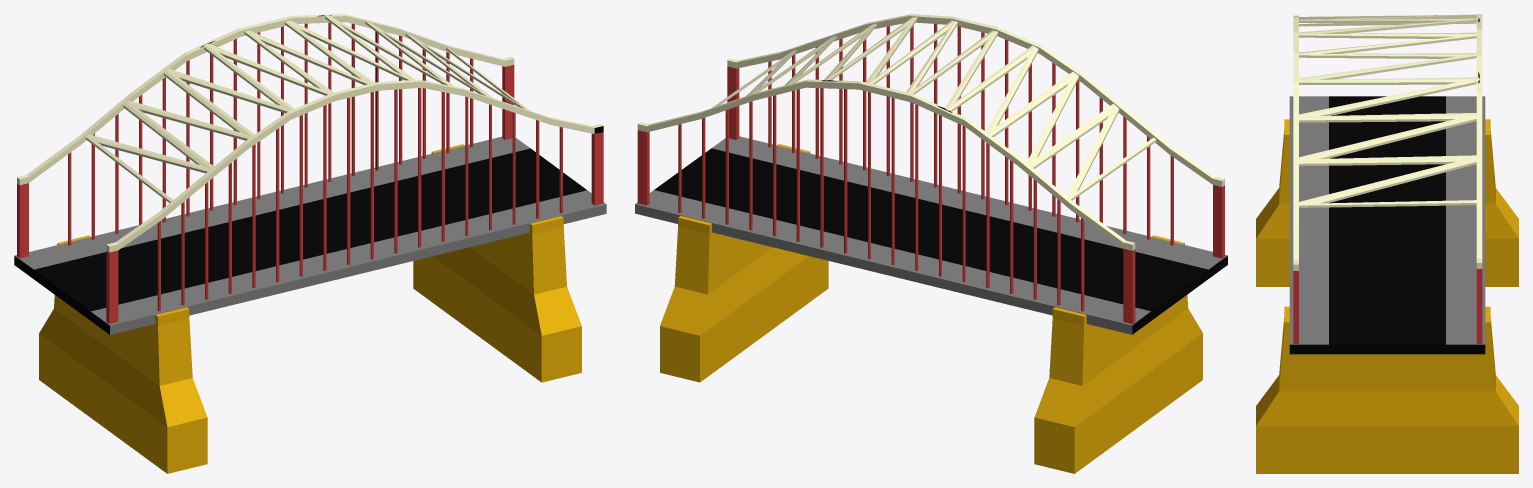
File: Bridge.fbx
3 renders of one model, left to right at view 1: azimuth 30°, elevation 25°; view 2: azimuth 150°, elevation 25°; view 3: azimuth 270°, elevation 25°, orthographic. The views are drawn at different scales.
Parts seen in each view (by area): view 1: Cylinder.001; view 2: Cylinder.001; view 3: Cylinder.001.
Part boxes in pixels (bbox=[...]): Cylinder.001: bbox=[14, 14, 606, 473]; Cylinder.001: bbox=[635, 14, 1227, 473]; Cylinder.001: bbox=[1256, 14, 1518, 473].
Bounding box in the file's own units: 3002 × 1848 × 1343.
